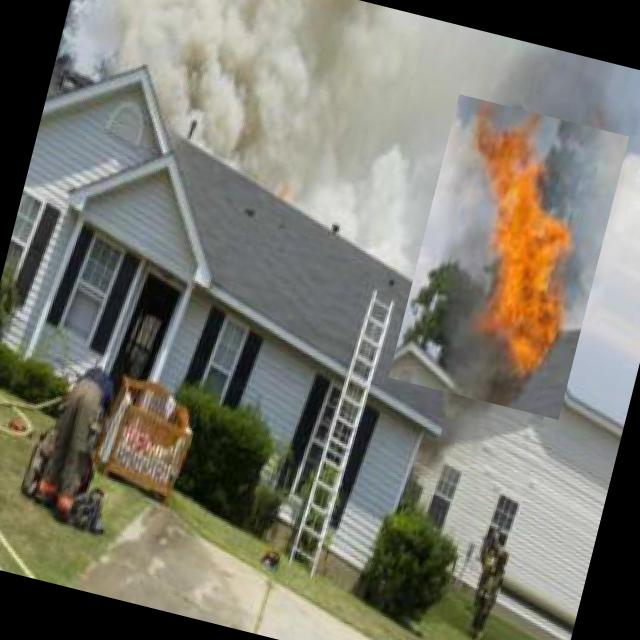fire: (388, 93, 628, 420)
